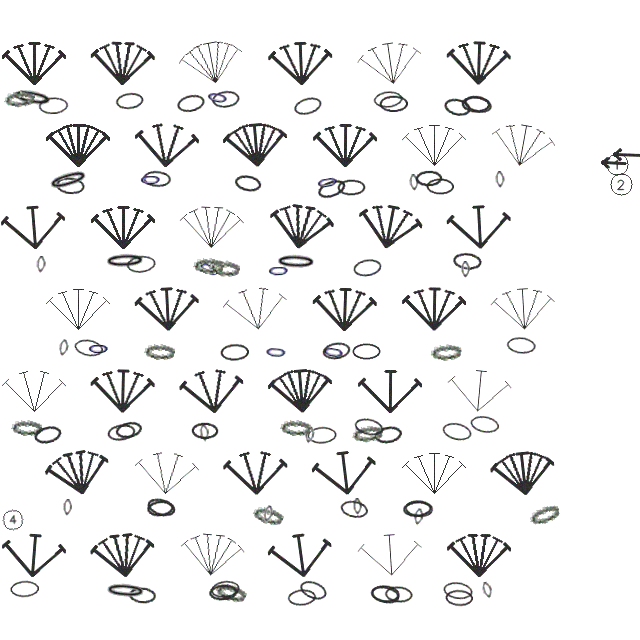chain: (46, 166, 91, 194), (10, 86, 54, 110), (527, 501, 562, 528), (104, 581, 147, 601), (315, 176, 348, 202), (297, 577, 329, 603), (251, 504, 285, 527), (214, 581, 248, 604), (292, 94, 324, 118), (145, 495, 177, 519), (104, 252, 146, 270), (275, 253, 317, 271), (462, 93, 494, 116), (441, 420, 473, 443), (369, 583, 401, 606), (195, 256, 223, 282), (32, 423, 63, 446), (175, 92, 207, 114), (3, 88, 36, 109), (351, 423, 384, 444), (442, 96, 473, 118), (73, 337, 104, 359), (353, 416, 384, 438), (442, 580, 474, 601), (114, 419, 144, 441), (339, 498, 369, 520), (352, 257, 383, 278), (321, 340, 352, 361), (106, 422, 137, 443), (469, 414, 500, 435), (430, 342, 462, 362), (233, 173, 263, 194), (373, 424, 403, 445), (126, 254, 156, 274), (452, 251, 482, 271), (210, 579, 240, 599), (38, 96, 69, 115), (115, 91, 144, 111), (211, 89, 240, 109), (373, 90, 403, 109), (55, 176, 85, 195), (506, 336, 536, 355), (404, 499, 434, 518), (208, 583, 238, 602), (287, 588, 317, 607), (370, 584, 400, 603), (209, 259, 240, 277), (146, 499, 175, 518), (128, 586, 157, 605), (384, 585, 413, 604), (142, 170, 172, 188), (307, 426, 337, 444), (402, 500, 432, 518), (193, 257, 224, 274), (144, 343, 175, 360), (11, 419, 42, 436), (280, 419, 311, 436), (205, 87, 230, 108), (461, 95, 490, 113), (220, 343, 249, 361), (10, 580, 39, 598), (445, 589, 473, 607), (315, 172, 340, 192), (321, 342, 346, 362), (379, 95, 408, 112), (337, 179, 366, 196), (352, 343, 381, 360), (426, 178, 454, 195), (415, 170, 443, 187), (191, 422, 219, 439), (264, 343, 288, 361), (139, 171, 162, 188), (267, 262, 290, 279), (87, 340, 110, 357), (481, 581, 494, 599), (262, 505, 274, 523), (58, 339, 69, 357), (199, 424, 210, 442), (304, 426, 315, 444), (413, 508, 424, 526), (409, 174, 419, 191), (495, 171, 505, 188), (36, 256, 46, 273), (461, 261, 470, 278), (63, 499, 72, 516), (353, 498, 362, 515)
fan: (42, 443, 114, 502), (176, 33, 247, 92), (354, 197, 425, 256), (487, 116, 558, 174), (266, 198, 336, 255), (355, 35, 425, 91), (266, 527, 335, 583), (221, 281, 290, 336), (310, 445, 379, 500), (178, 364, 246, 418), (489, 446, 557, 500), (89, 528, 157, 582), (445, 364, 513, 417), (178, 528, 246, 581), (222, 118, 289, 171), (267, 364, 334, 417), (133, 119, 200, 171), (0, 201, 67, 253), (133, 447, 200, 499), (0, 529, 67, 581), (446, 201, 512, 252), (134, 283, 200, 334), (490, 283, 556, 334), (357, 529, 423, 580), (90, 38, 155, 88), (268, 38, 333, 88), (179, 202, 244, 252), (312, 284, 377, 334), (446, 38, 511, 87), (90, 366, 155, 415), (223, 448, 288, 497), (402, 284, 466, 333), (2, 39, 66, 87), (46, 121, 110, 169), (313, 121, 377, 169), (402, 121, 466, 169), (91, 203, 155, 251), (46, 285, 110, 333), (2, 367, 66, 415), (358, 367, 422, 415), (402, 449, 466, 497), (447, 531, 511, 579)
noise: (604, 151, 630, 177), (608, 171, 634, 197), (0, 507, 25, 532), (610, 147, 640, 162), (598, 157, 627, 169)
